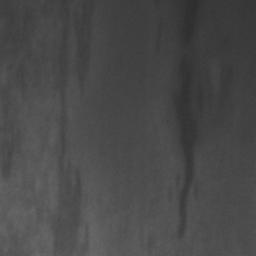Inclusion: (174, 0, 198, 237), (50, 165, 90, 256), (74, 0, 93, 83)
